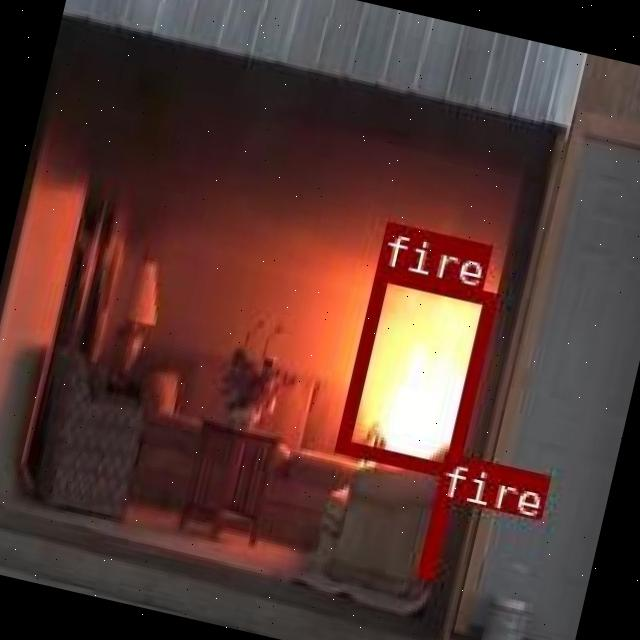fire: (332, 263, 497, 476), (416, 494, 448, 576)
